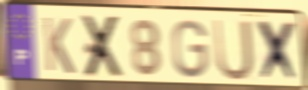8: (129, 18, 164, 79)
G: (170, 17, 210, 80)
K: (41, 15, 77, 76)
U: (211, 17, 256, 83)
X: (255, 18, 301, 85), (81, 14, 126, 80)
